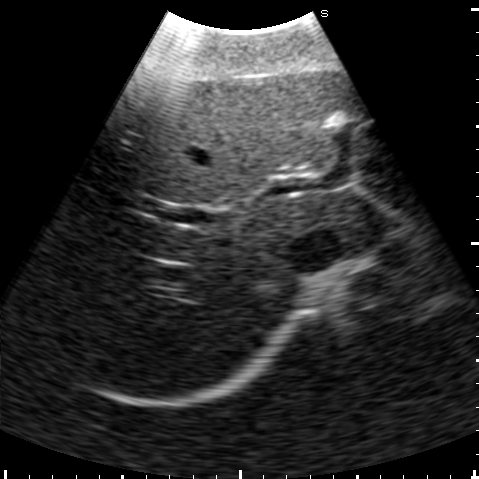IVC: (291, 230, 346, 273)
S1: (255, 190, 396, 252)
S2: (360, 182, 431, 219)
S3: (335, 71, 409, 185)
S4: (152, 71, 340, 205)
Tumor: (326, 112, 345, 131)
